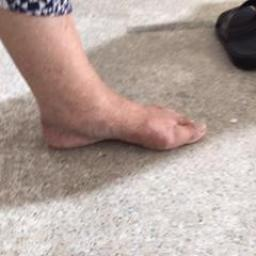Medial View -Left Foot-: (24, 74, 209, 161)
